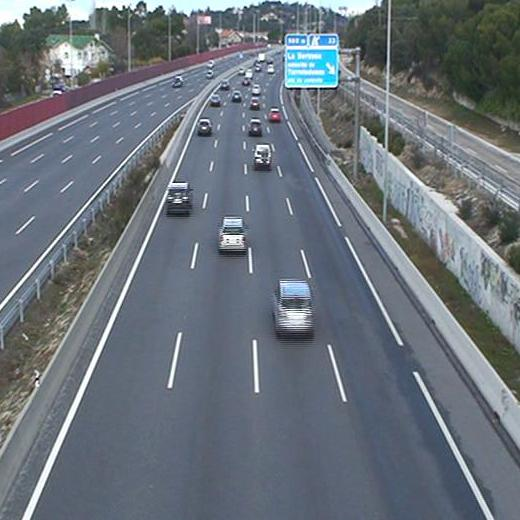car: (274, 279, 314, 333), (219, 216, 245, 249), (165, 182, 190, 213), (253, 143, 271, 166), (195, 119, 212, 136), (248, 117, 261, 136), (270, 108, 282, 123), (209, 93, 222, 106), (248, 97, 260, 110), (231, 90, 243, 102), (219, 80, 230, 92), (252, 83, 261, 94)
